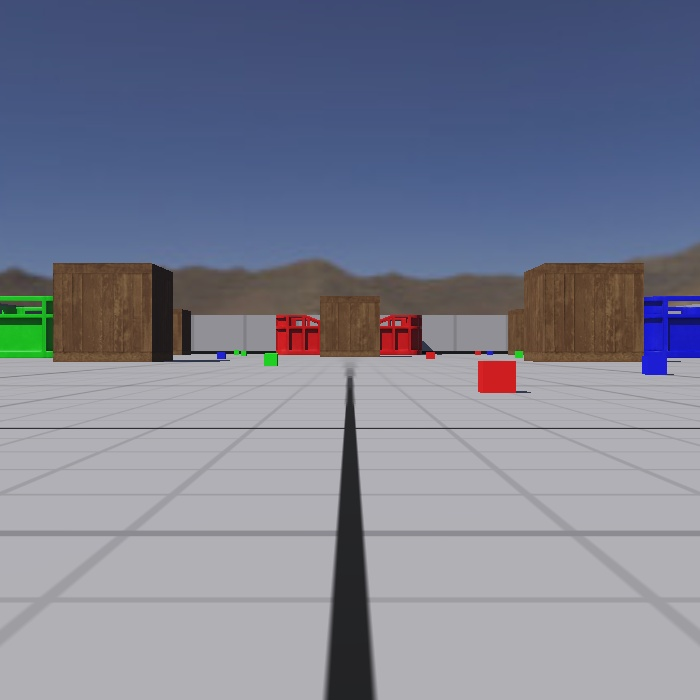caixa_azul: (634, 287, 700, 366)
caixa_verde: (0, 291, 69, 366)
caixa_vermelha: (272, 308, 428, 361)
cubo_azul: (635, 339, 683, 384), (212, 345, 232, 366), (480, 342, 499, 361)
cubo_verde: (257, 346, 287, 371), (510, 344, 528, 363), (237, 344, 255, 361), (229, 344, 243, 358)
cubo_vermelho: (470, 358, 523, 400), (422, 344, 443, 366), (469, 341, 485, 358)
obstaculo: (514, 251, 655, 369), (46, 251, 179, 371), (316, 288, 387, 361), (499, 301, 544, 358), (168, 298, 197, 358)
